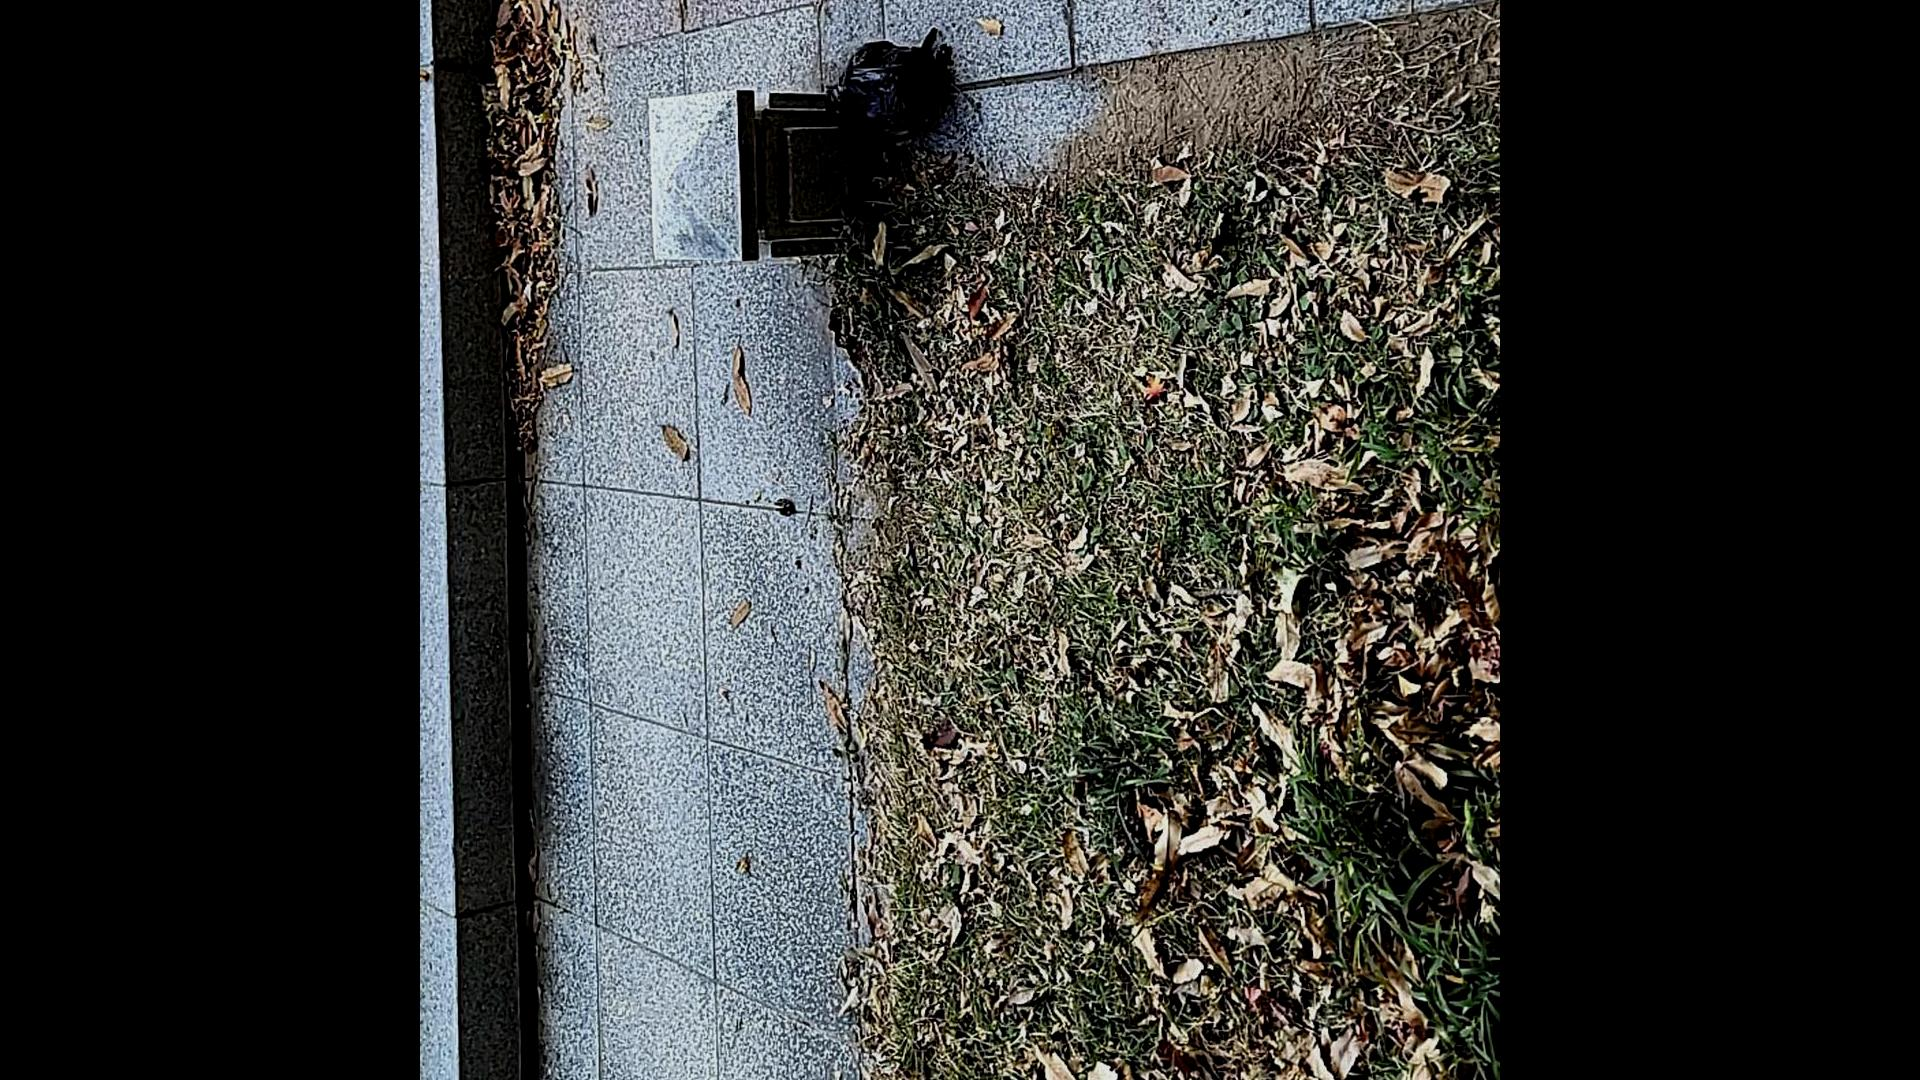black_bag: (811, 22, 960, 158)
